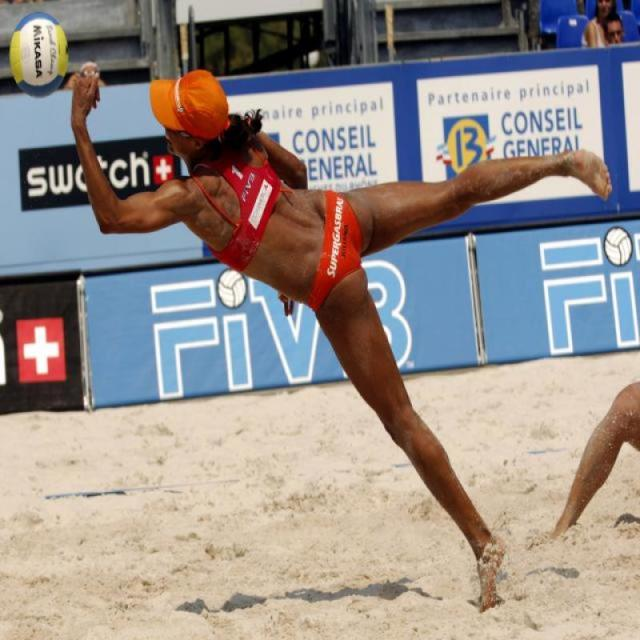volleyball: (8, 8, 70, 100), (9, 7, 69, 98)
